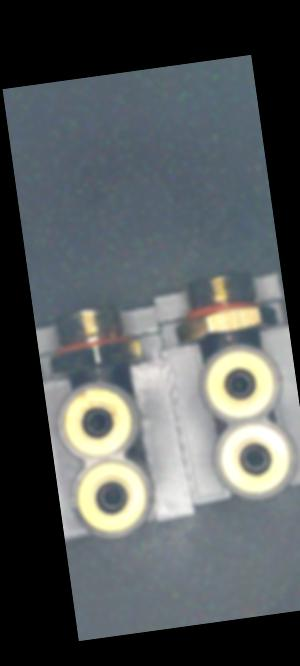craze: (92, 363, 107, 384), (219, 328, 236, 346)
off-centered: (230, 438, 273, 481)
